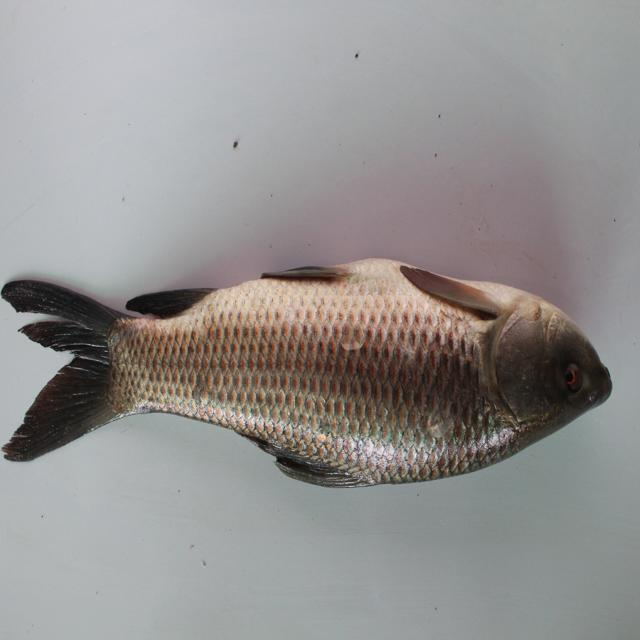Rohu: (5, 247, 639, 517)
